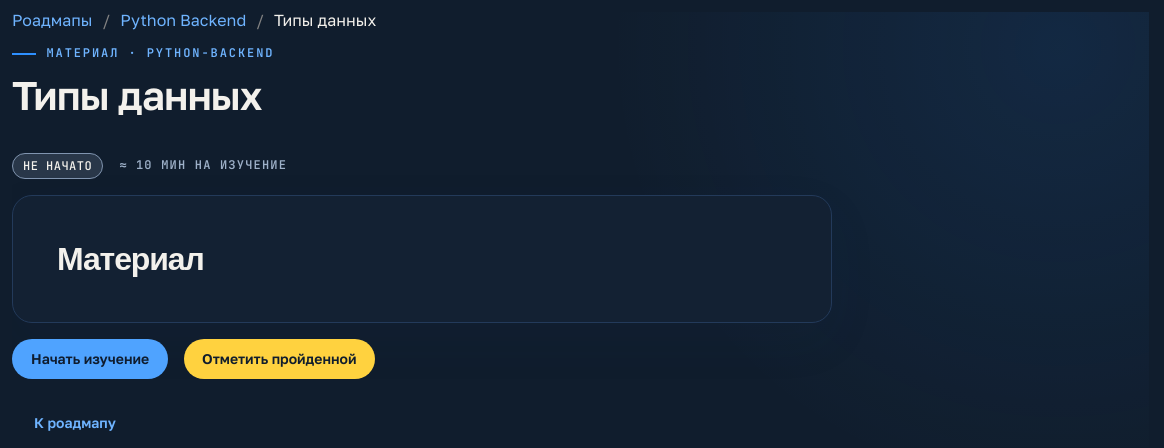
it: отправляет завершение и обновляет интерфейс
The image size is (1164, 448).
Step 1. Click the button "Отметить пройденной" → (279, 359), box x1=184 y1=339 x2=374 y2=379
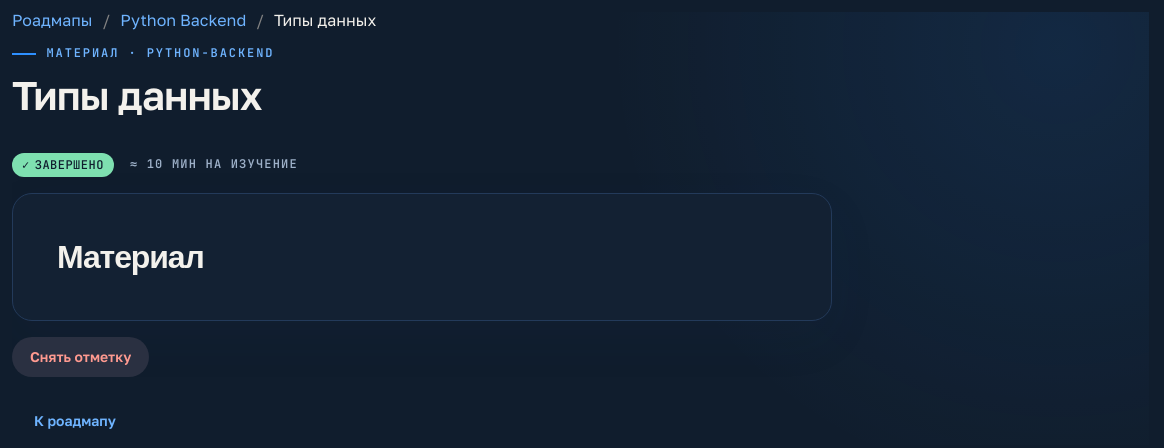
Now the button "Снять отметку" is shown, box x1=12 y1=337 x2=150 y2=377
